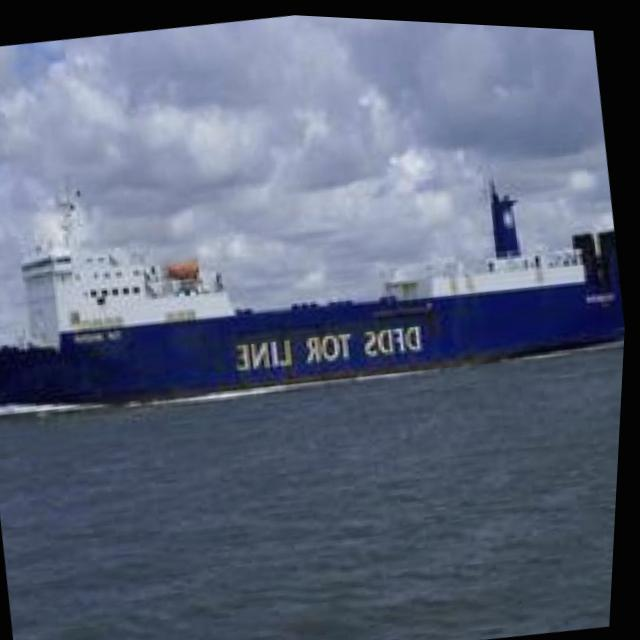ship2: (0, 169, 628, 418)
